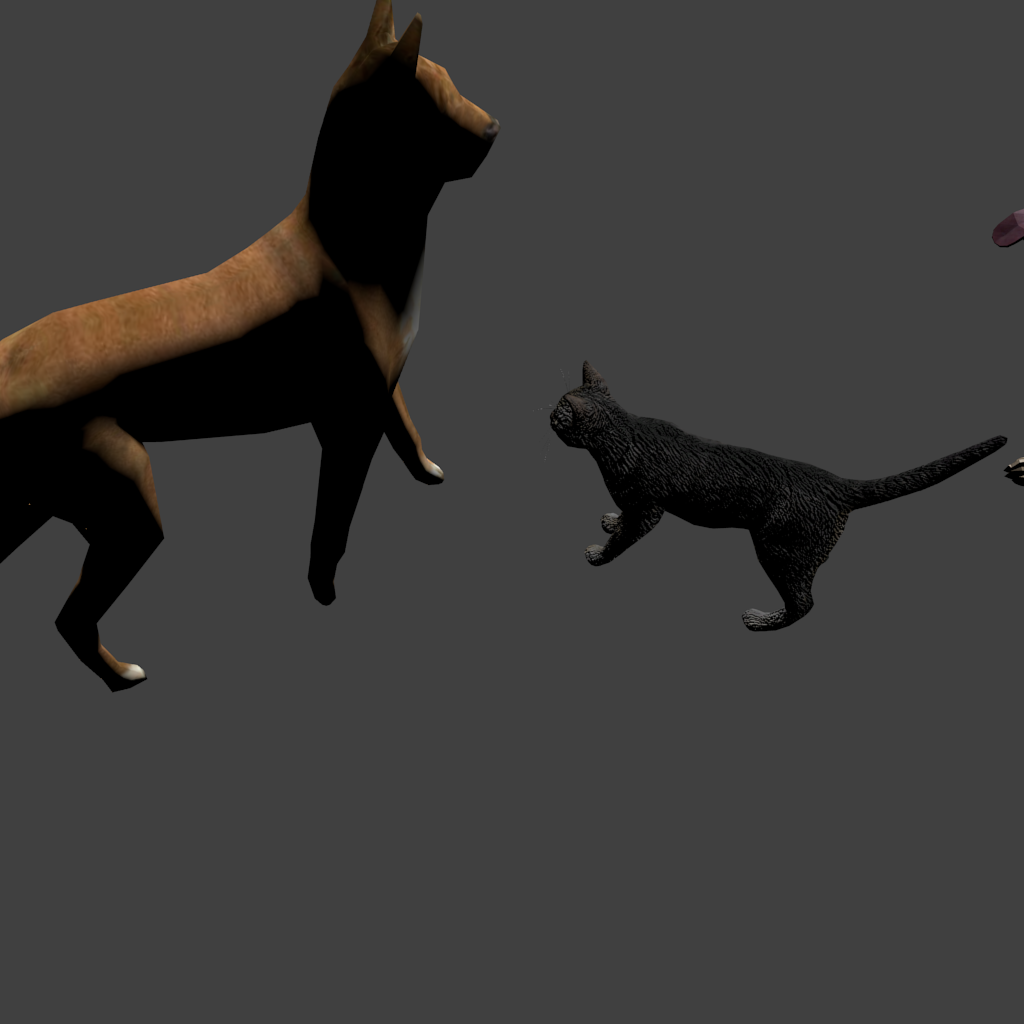Dog: (0, 0, 501, 693)
